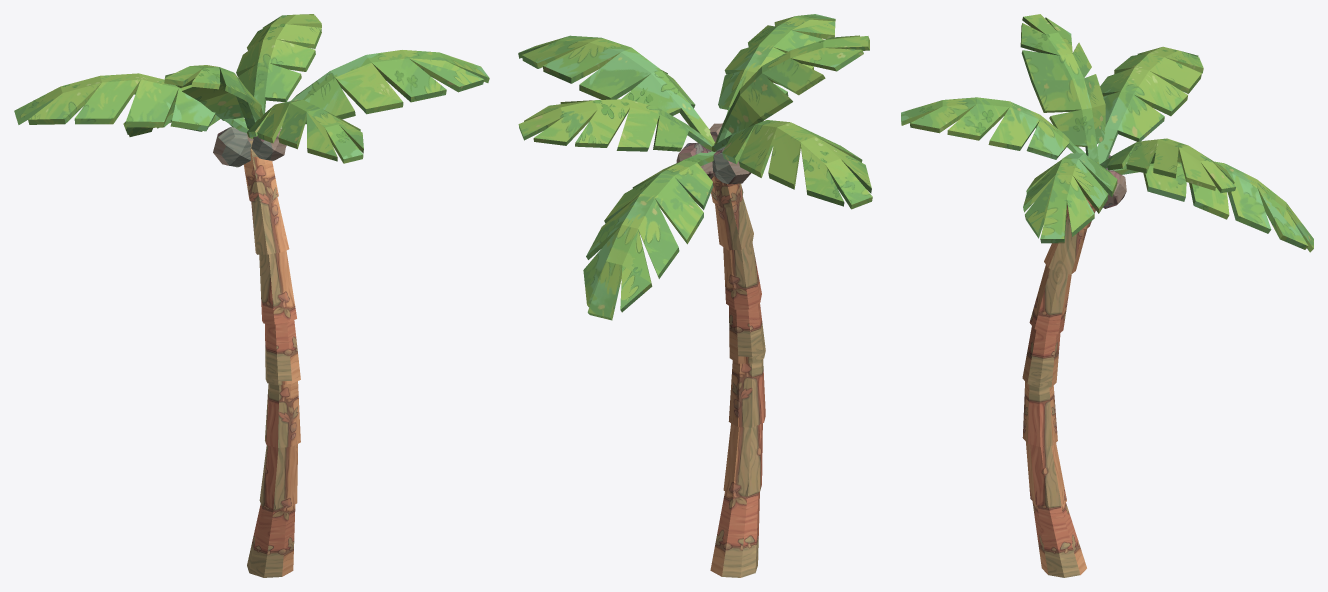
File: trop_palm1.glb
3 renders of one model, left to right at view 1: azimuth 30°, elevation 25°; view 2: azimuth 150°, elevation 25°; view 3: azimuth 270°, elevation 25°, orthographic. The views are drawn at different scales.
Parts seen in each view (by area): view 1: palm_tree_01; view 2: palm_tree_01; view 3: palm_tree_01.
Boxes of the visible parts, x1=… form: palm_tree_01: x1=14, y1=14, x2=489, y2=577; palm_tree_01: x1=518, y1=14, x2=872, y2=577; palm_tree_01: x1=901, y1=14, x2=1313, y2=577.
Bounding box in the file's own units: 160 × 200 × 149.
Materials: 3 (3 with a texture image).
